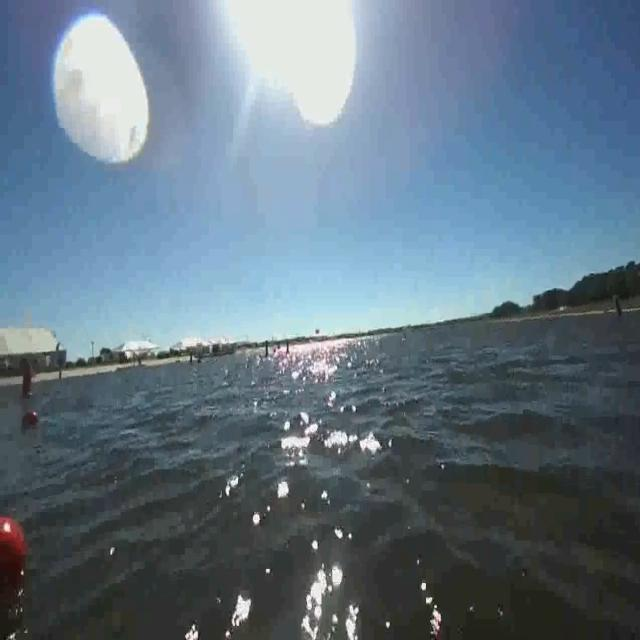red-buoy: (1, 516, 28, 583), (24, 413, 38, 428)
